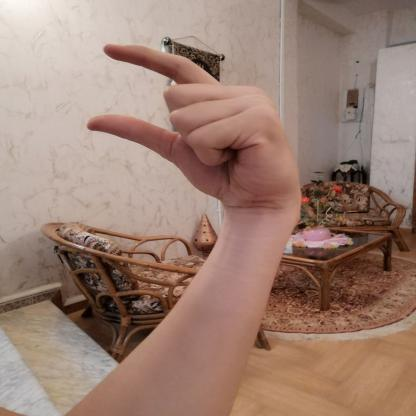DELL: (61, 30, 320, 219)
